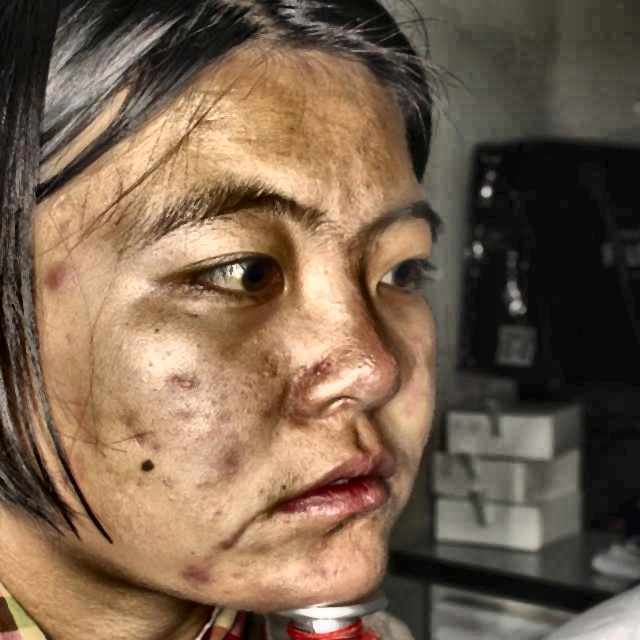pustule: (182, 559, 214, 591), (215, 526, 248, 552), (35, 265, 63, 292), (55, 467, 89, 488), (309, 534, 325, 562), (310, 365, 329, 380)
